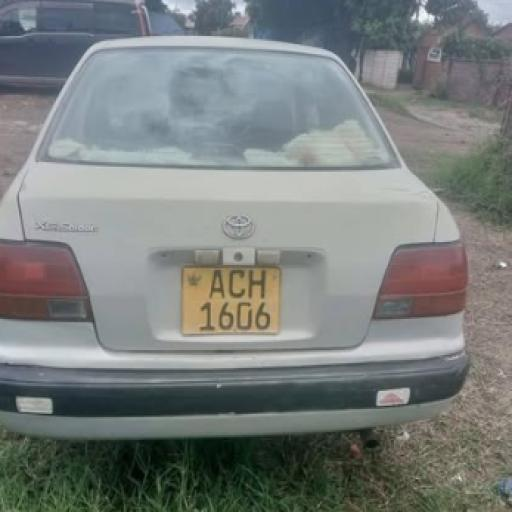number-plates: (184, 265, 276, 330)
